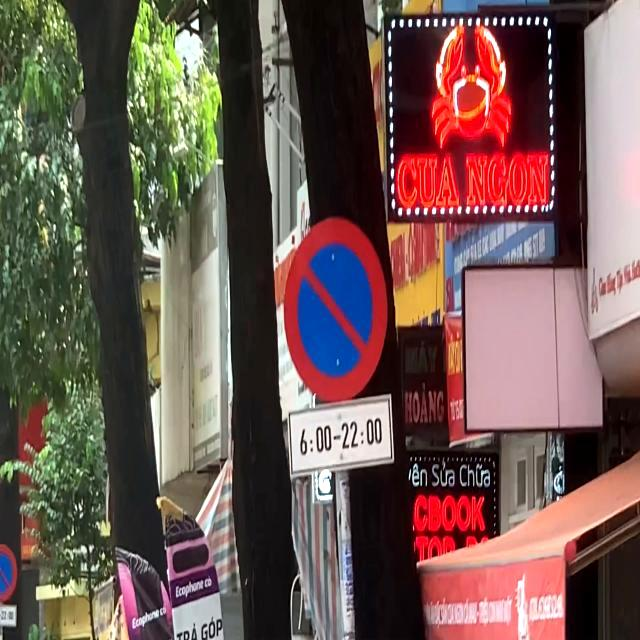Cam do xe: (284, 216, 389, 402)
